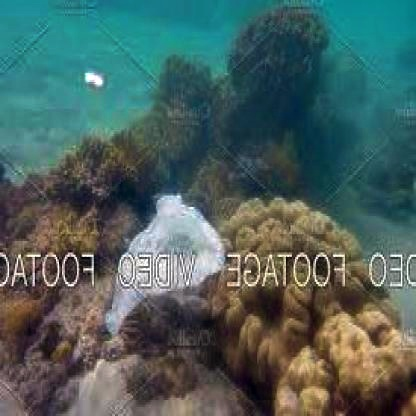pbag: (97, 191, 230, 336)
